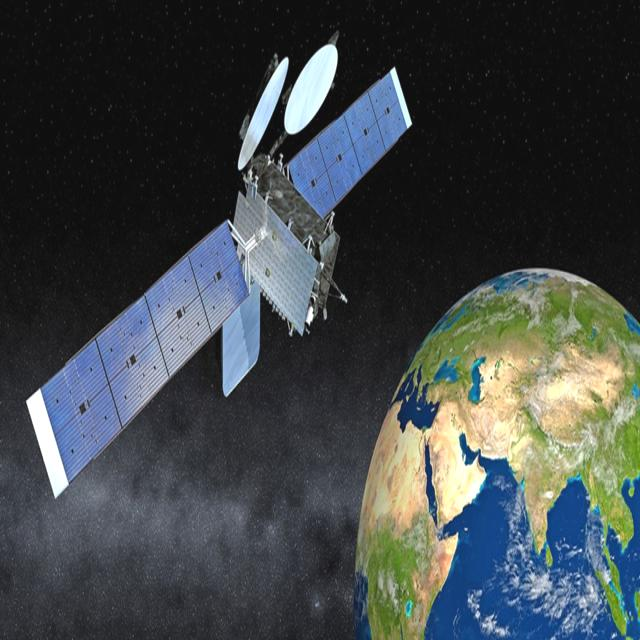satellite: (16, 37, 420, 510)
